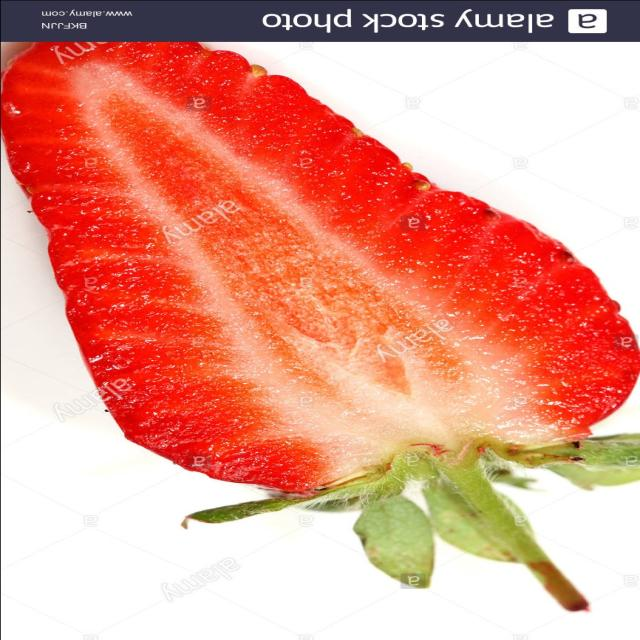strawberry: (0, 38, 640, 636)
